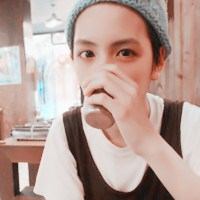face_mask: (73, 9, 150, 118)
